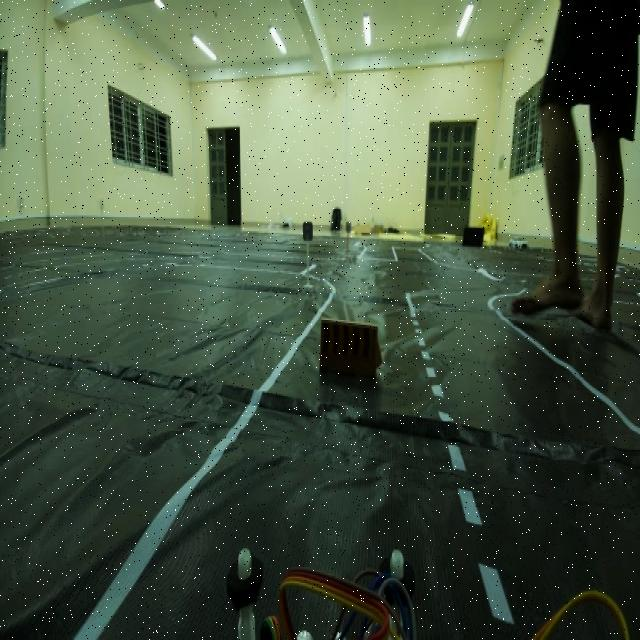roadblock: (311, 300, 387, 411)
